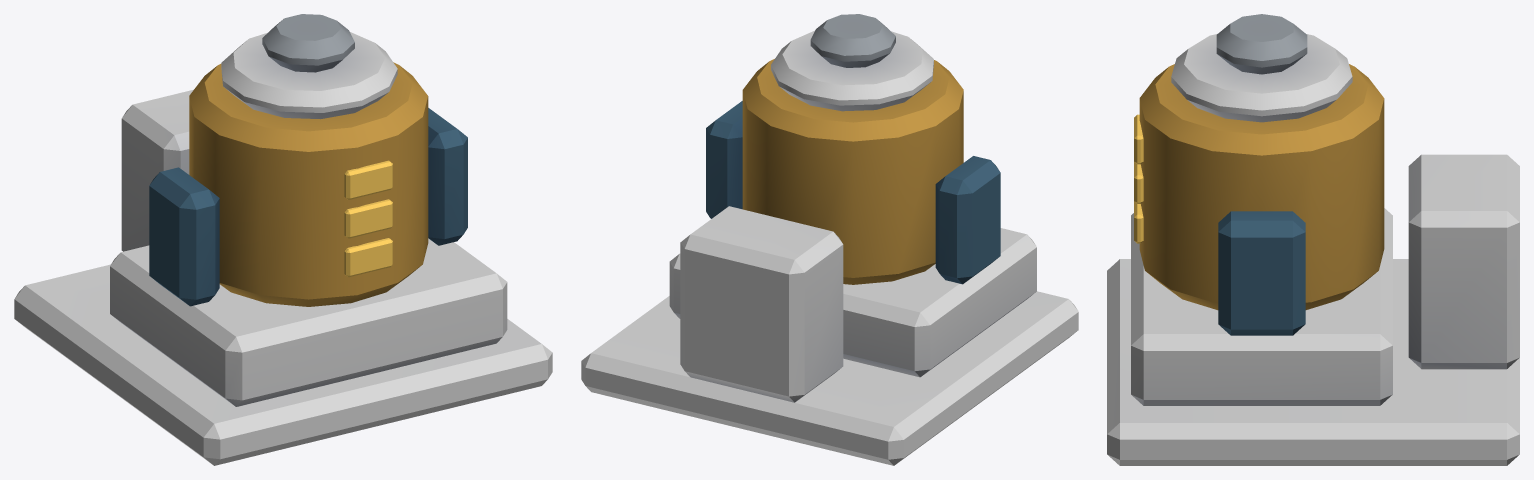
The model's file is R4X_Battery.fbx.
3 renders of one model, left to right at view 1: azimuth 30°, elevation 25°; view 2: azimuth 150°, elevation 25°; view 3: azimuth 270°, elevation 25°, orthographic. The views are drawn at different scales.
Visible parts, largest first — view 1: R4X_Battery_Body, R4X_Battery_Cap; view 2: R4X_Battery_Body, R4X_Battery_Cap; view 3: R4X_Battery_Body, R4X_Battery_Cap.
Part boxes in pixels (bbox=[...]): R4X_Battery_Body: bbox=[14, 32, 552, 465]; R4X_Battery_Cap: bbox=[262, 14, 354, 72]; R4X_Battery_Body: bbox=[581, 30, 1078, 465]; R4X_Battery_Cap: bbox=[810, 14, 895, 67]; R4X_Battery_Body: bbox=[1107, 34, 1519, 465]; R4X_Battery_Cap: bbox=[1216, 14, 1307, 74].
Size of the model in its own units: 0.52 by 0.495 by 0.52.
